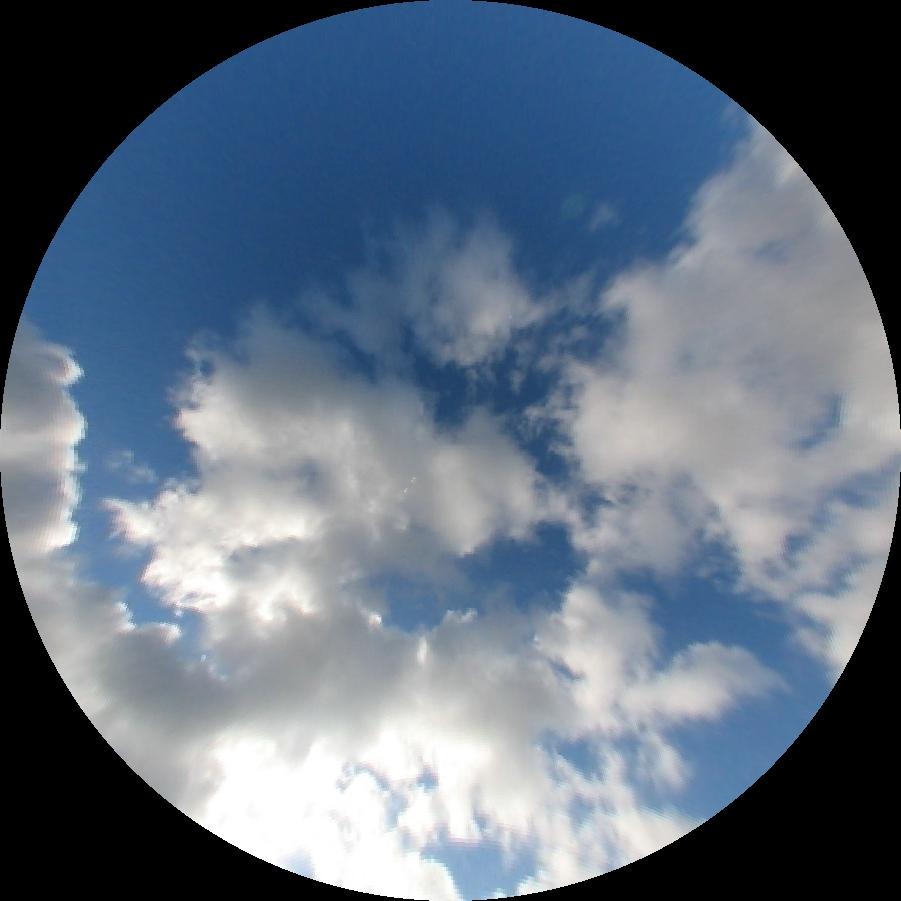sun: (213, 760, 319, 853)
